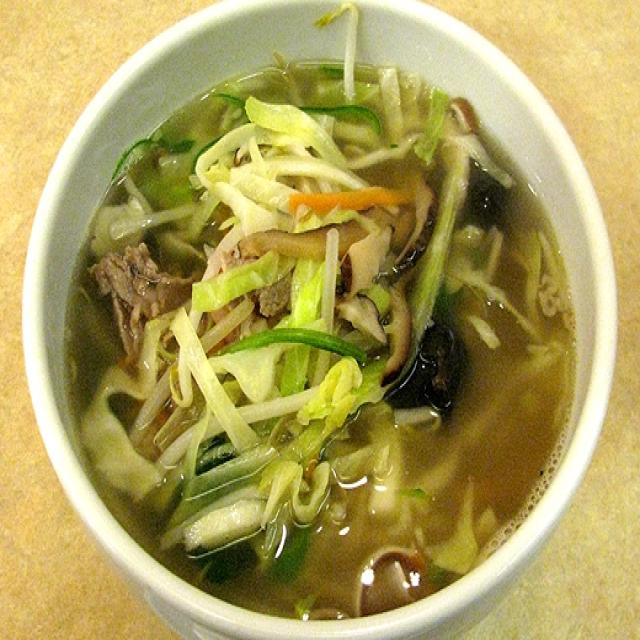熟制海鲜: (2, 104, 640, 562)
